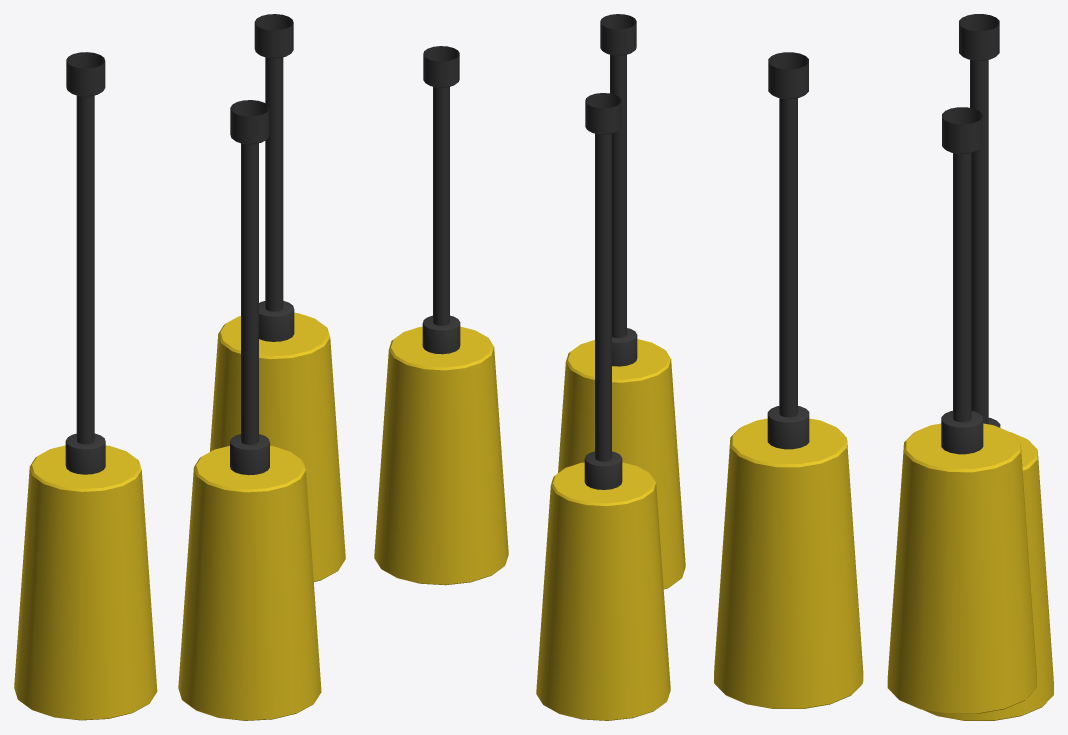
The model's file is ceiling lamp3.fbx.
The picture shows the model from 3 angles, left to right: view 1: azimuth 30°, elevation 25°; view 2: azimuth 150°, elevation 25°; view 3: azimuth 270°, elevation 25°; orthographic projection. The views are drawn at different scales.
Visible parts, largest first — view 1: Cylinder.015; view 2: Cylinder.015; view 3: Cylinder.015.
Boxes of the visible parts, bbox=[...] form: Cylinder.015: bbox=[14, 14, 345, 720]; Cylinder.015: bbox=[374, 14, 685, 720]; Cylinder.015: bbox=[714, 14, 1053, 720].
Bounding box in the file's own units: 30.6 × 60.92 × 28.12.
